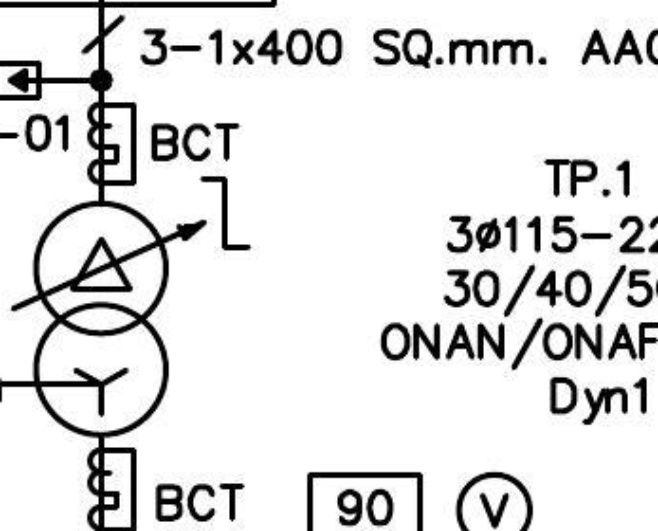11522_tx_dyn1: (32, 200, 171, 439)
